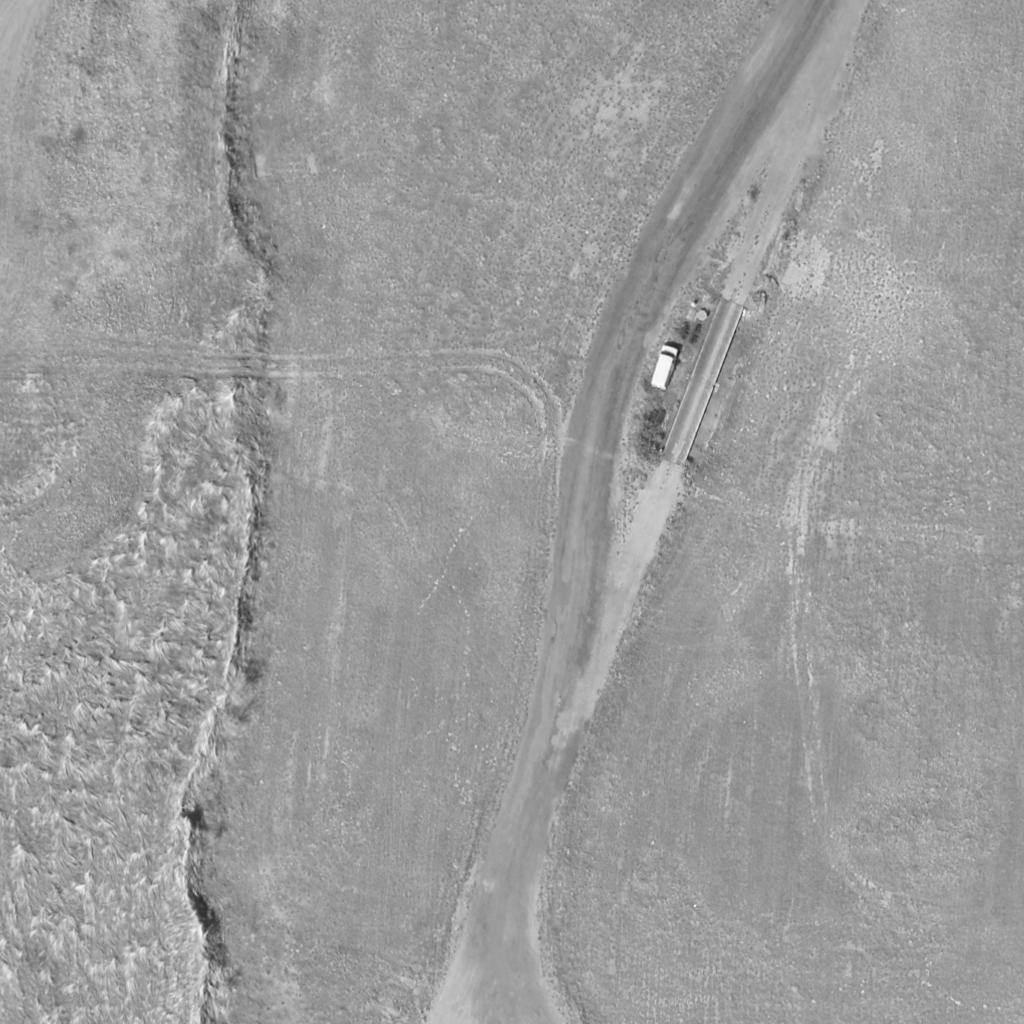vehicle: (647, 344, 683, 392)
